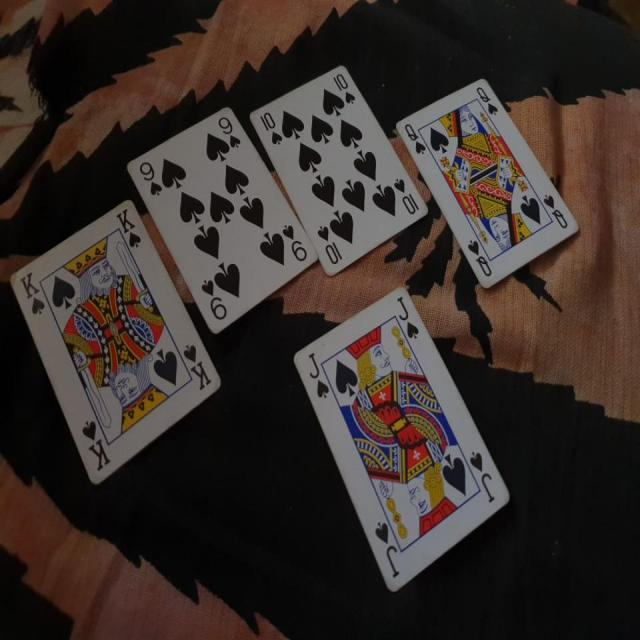10 Spades: (243, 56, 431, 285)
9 Spades: (120, 100, 317, 330)
J Spades: (286, 277, 514, 599)
K Spades: (1, 195, 222, 497)
Q Spades: (391, 66, 584, 292)
